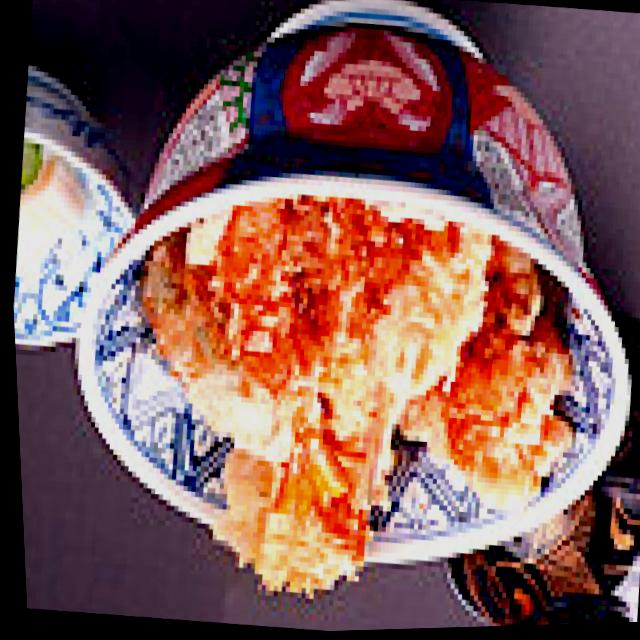熟制海鲜: (39, 0, 640, 635)
